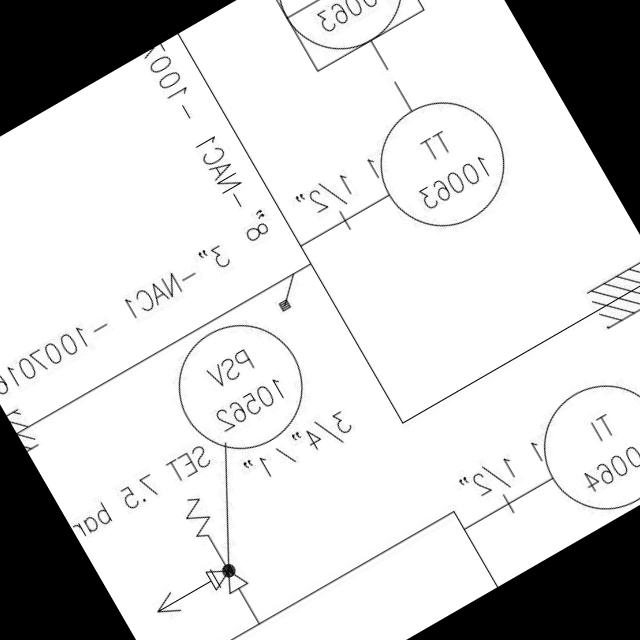RPV: (160, 482, 262, 610)
